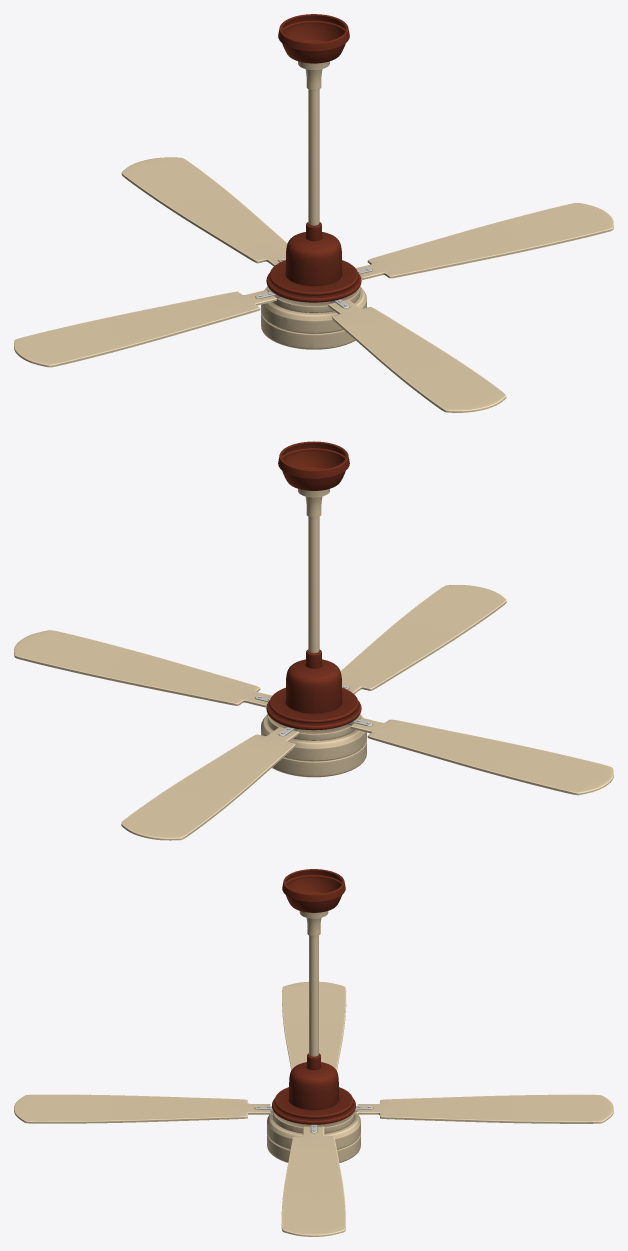
The model's file is FNFN001.glb.
3 views of the same model, one above another, from view 1: azimuth 30°, elevation 25°; view 2: azimuth 150°, elevation 25°; view 3: azimuth 270°, elevation 25° (orthographic). The views are drawn at different scales.
Parts seen in each view (by area): view 1: Plane.003; view 2: Plane.003; view 3: Plane.003.
Part boxes in pixels (x1,y1,x2,y2): Plane.003: [14, 14, 613, 412]; Plane.003: [14, 441, 613, 840]; Plane.003: [14, 869, 613, 1236].
Bounding box in the file's own units: 1.91 × 0.9545 × 1.91.
2 materials, 1 textured.
